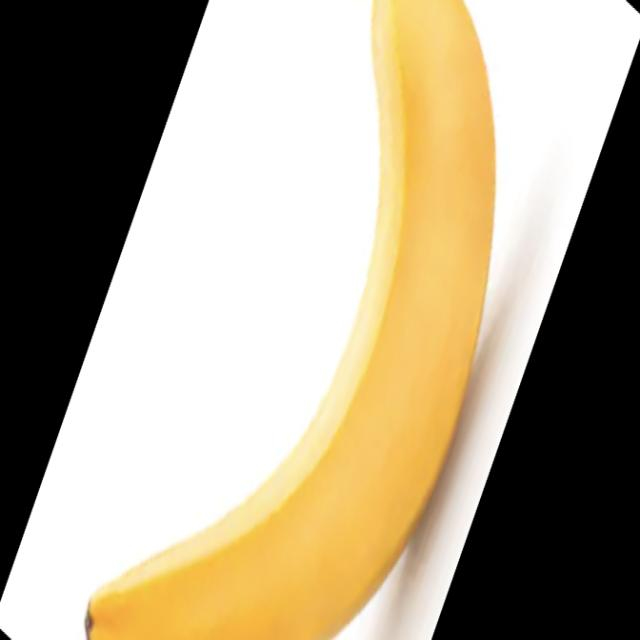god quality banana: (85, 3, 496, 639)
